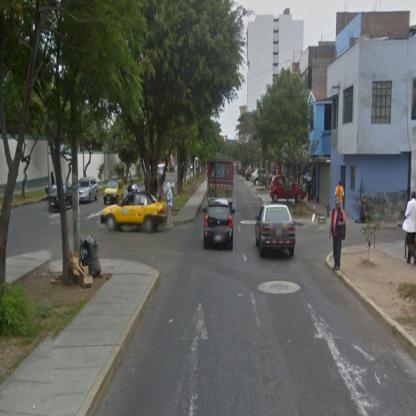Peaton: (330, 198, 348, 270), (404, 192, 416, 264), (167, 182, 175, 229)
Pista: (98, 180, 415, 412), (6, 197, 105, 261)
Vehiculo: (97, 191, 167, 235), (256, 205, 296, 260), (206, 198, 235, 253), (207, 156, 235, 211), (271, 175, 307, 205), (48, 182, 74, 214), (78, 175, 100, 205), (104, 178, 124, 206)
